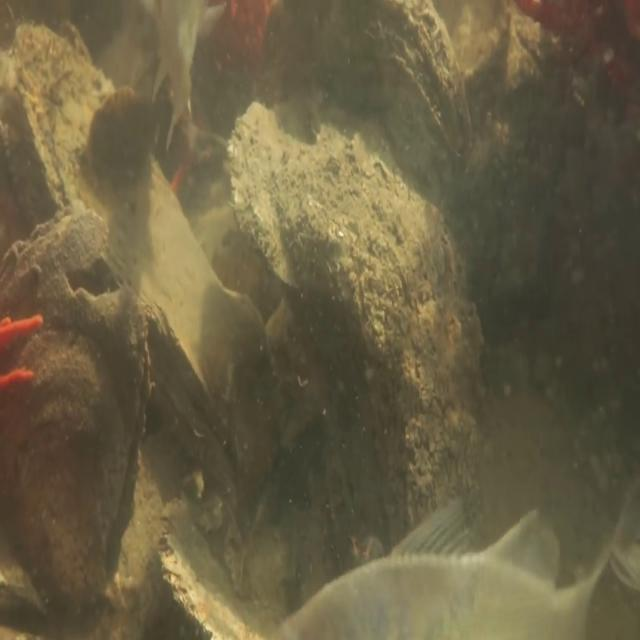Oyster-Closed: (219, 95, 498, 522), (0, 203, 154, 639)
